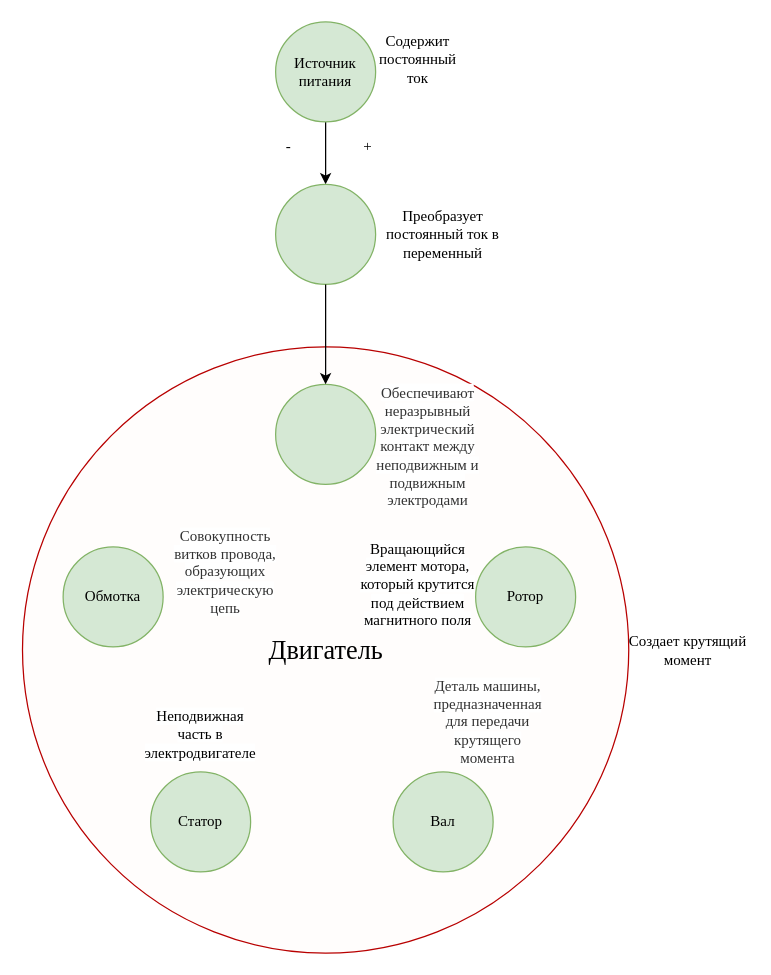
This 771x975 diagram has some shape labels left out. Here are the shapes that lost their labels. From the top down, the centre of each, then its label:
At point 325,233: "Инвертор".
At point 325,433: "Щетки".
